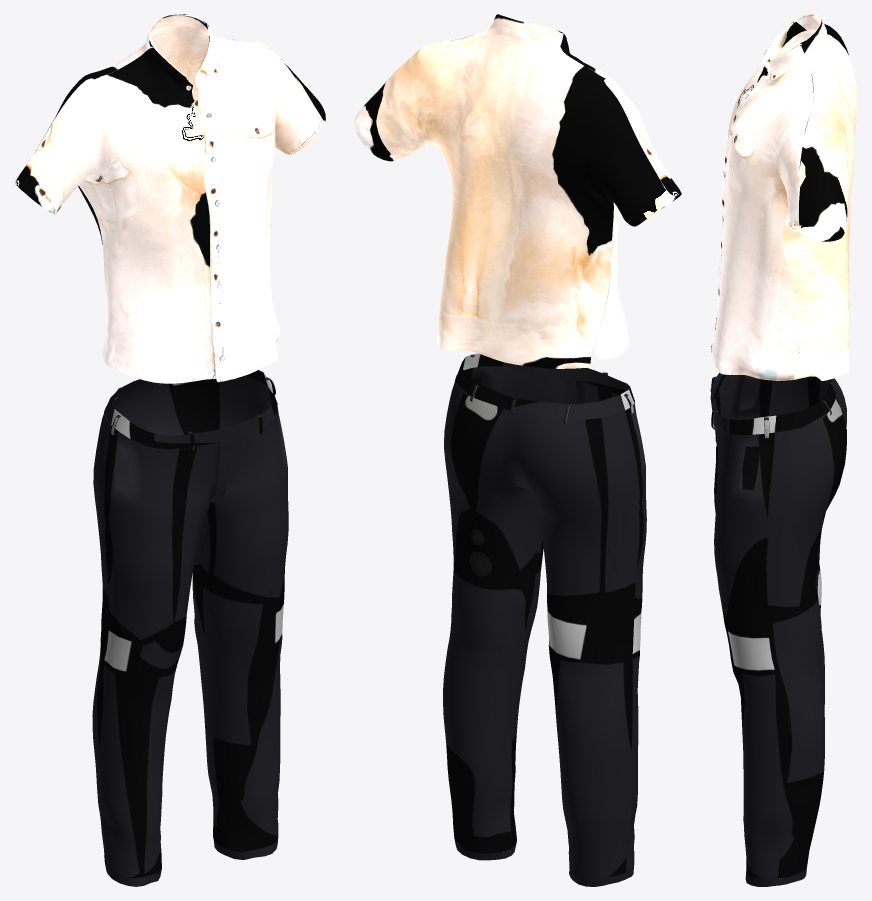
File: short_shirt_trousers.glb
3 views of the same model, side by side, from view 1: azimuth 30°, elevation 25°; view 2: azimuth 150°, elevation 25°; view 3: azimuth 270°, elevation 25° (orthographic). The views are drawn at different scales.
Parts seen in each view (by area): view 1: all_two, all; view 2: all_two, all; view 3: all_two, all.
Boxes of the visible parts, left/top/right/bottom form: all_two: left=92, top=370, right=288, bottom=886; all: left=14, top=14, right=325, bottom=383; all_two: left=443, top=353, right=646, bottom=886; all: left=354, top=14, right=681, bottom=368; all_two: left=710, top=352, right=846, bottom=886; all: left=711, top=14, right=857, bottom=380.
Bounding box in the file's own units: 0.3225 × 0.8334 × 0.1335.
3 materials, 2 textured.
